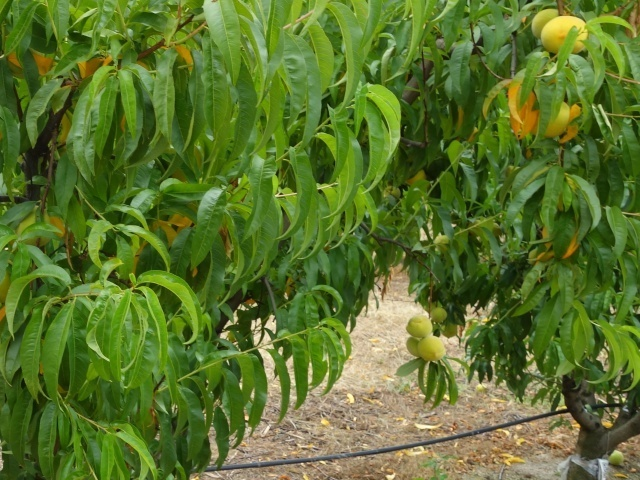peach: (541, 14, 592, 56), (532, 99, 573, 142), (526, 3, 565, 38), (419, 330, 449, 363), (405, 311, 433, 342), (406, 334, 426, 364)
